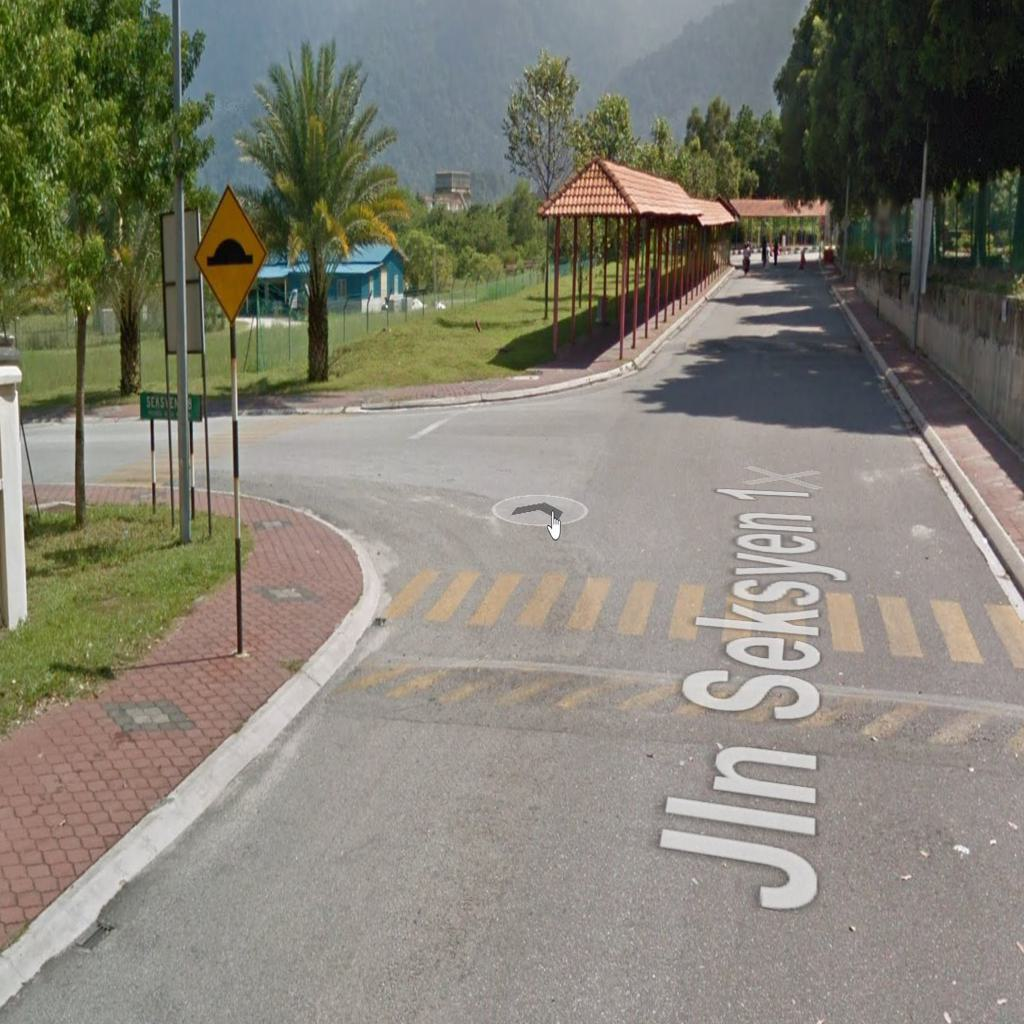Junction: (35, 365, 594, 594)
